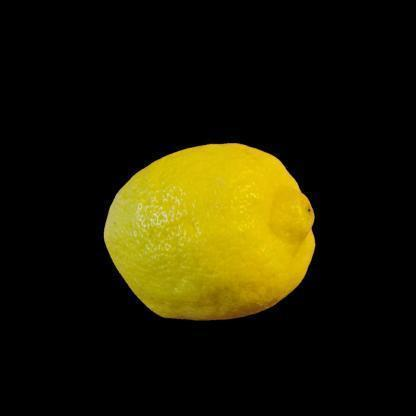lemon: (104, 142, 316, 320)
